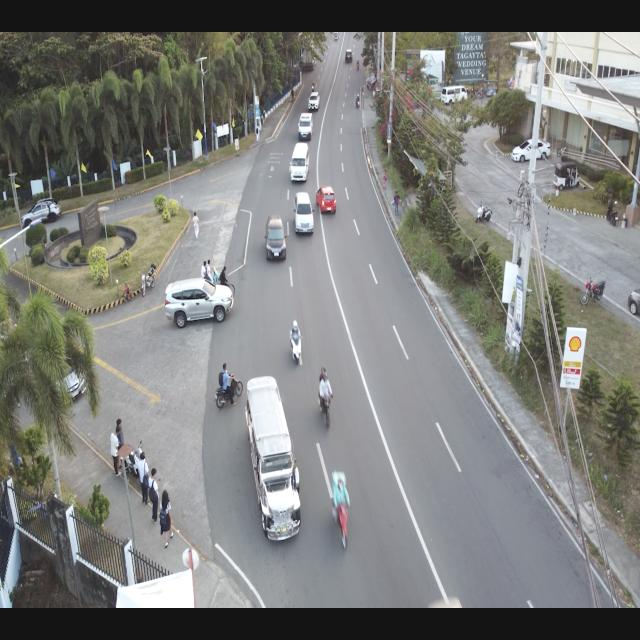bicycle: (556, 144, 570, 159)
car: (242, 373, 303, 544), (163, 278, 235, 328), (19, 196, 62, 229), (263, 214, 288, 264), (292, 190, 316, 237), (511, 138, 552, 162), (289, 141, 310, 184), (315, 184, 337, 216), (297, 112, 313, 142), (308, 91, 320, 112), (345, 49, 353, 63)
motorcycle: (328, 468, 352, 556), (214, 362, 244, 410), (316, 364, 334, 431), (579, 276, 606, 306), (138, 262, 157, 298), (289, 318, 303, 366), (200, 259, 223, 285), (475, 200, 493, 224), (605, 198, 619, 228), (355, 94, 360, 108), (356, 58, 360, 70), (311, 81, 315, 92)
person: (158, 489, 174, 550), (146, 466, 162, 524), (138, 452, 152, 508), (108, 425, 122, 477), (115, 417, 126, 470), (122, 280, 133, 304), (391, 190, 400, 217), (192, 211, 200, 241), (382, 169, 387, 190), (256, 123, 260, 143), (291, 88, 294, 102)
